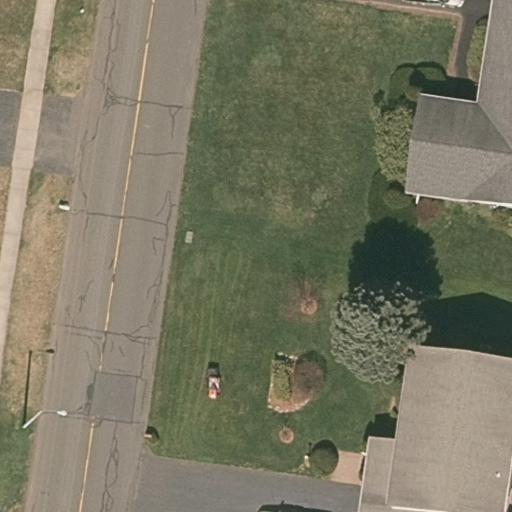DT: (25, 409, 49, 434)
